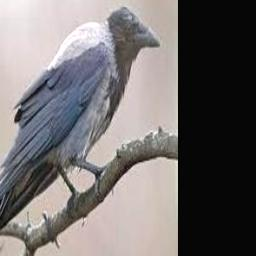Crow: (0, 5, 161, 248)
